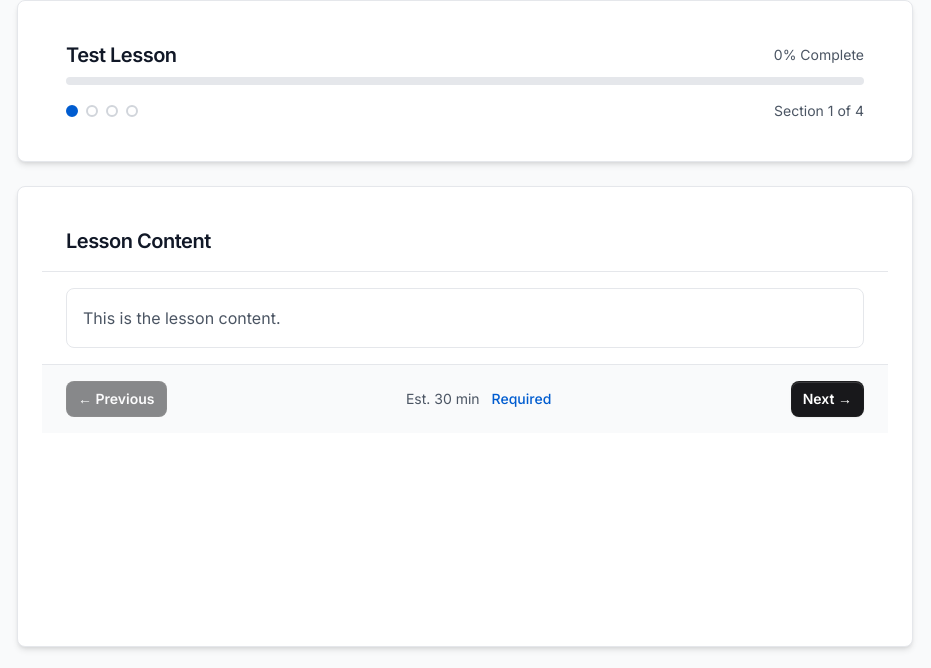
Test: LessonViewer › Error Handling › handles exercises with no questions
This screenshot has width=931, height=668.
Navigate to exercise section
Click the button "Next →": (827, 399) left=791, top=381, right=864, bottom=417
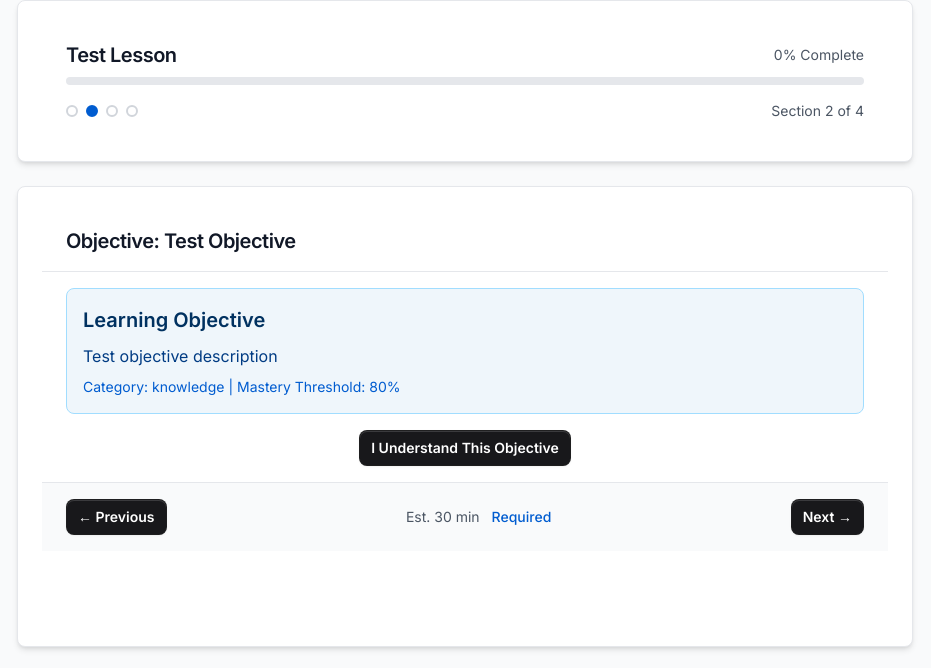
Click the button "Next →": (827, 517) left=791, top=499, right=864, bottom=535
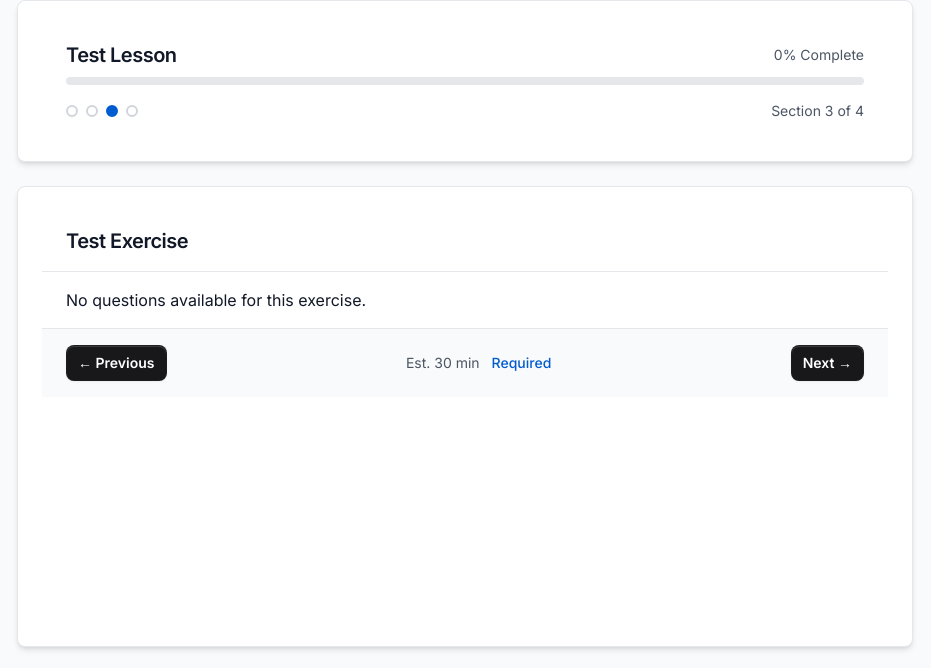
Result: the text "No questions available for this exercise." is shown at left=66, top=290, right=366, bottom=310
